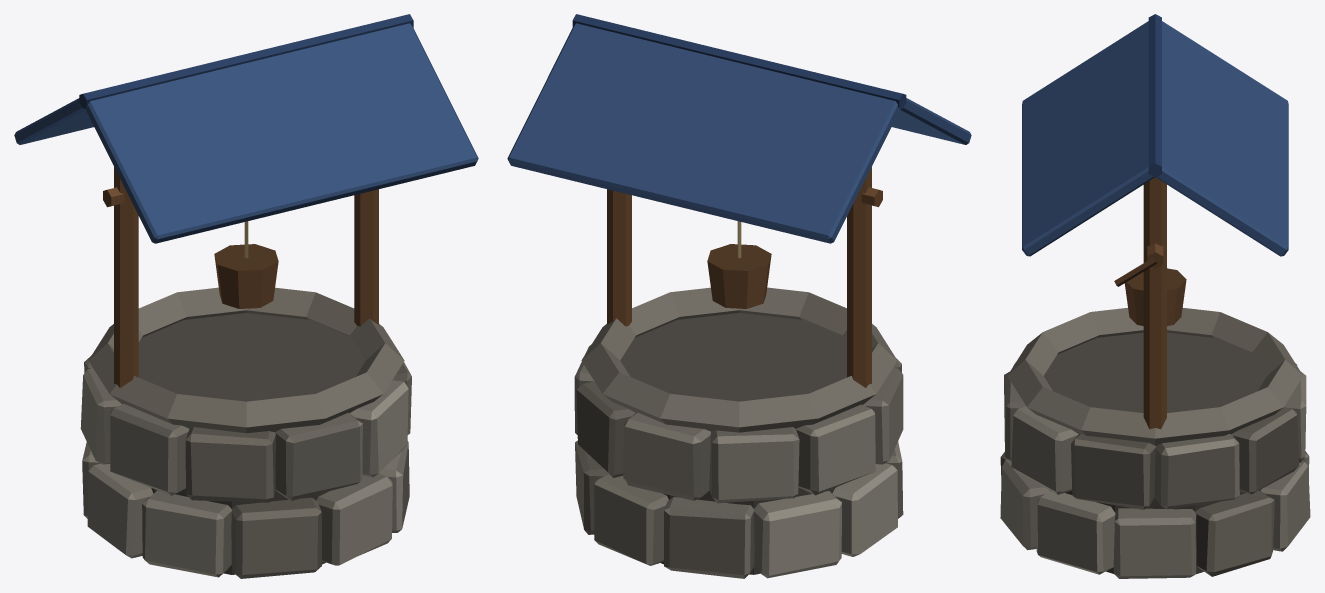
Rendered from well.glb.
The picture shows the model from 3 angles, left to right: view 1: azimuth 30°, elevation 25°; view 2: azimuth 150°, elevation 25°; view 3: azimuth 270°, elevation 25°; orthographic projection. The views are drawn at different scales.
Parts seen in each view (by area): view 1: Well; view 2: Well; view 3: Well.
Part boxes in pixels (x1,y1,x2,y2): Well: (14,14,478,578); Well: (507,14,971,578); Well: (1000,14,1310,578).
Size of the model in its own units: 1.36 by 1.89 by 1.19.
